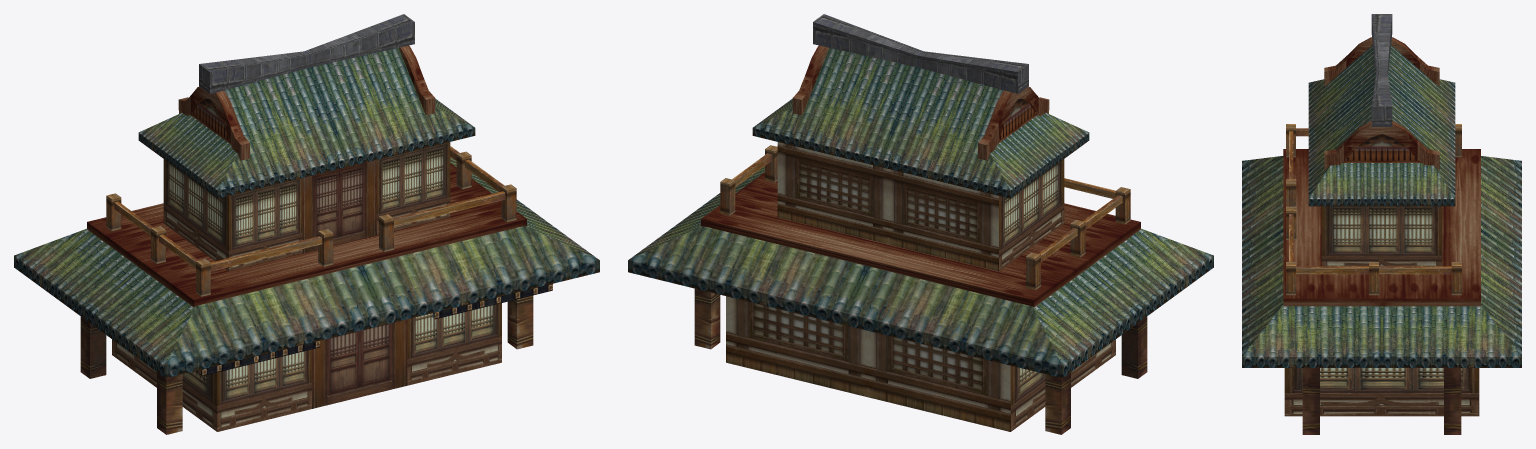
File: a_fangzi_002.fbx
3 renders of one model, left to right at view 1: azimuth 30°, elevation 25°; view 2: azimuth 150°, elevation 25°; view 3: azimuth 270°, elevation 25°, orthographic. The views are drawn at different scales.
Parts seen in each view (by area): view 1: polySurface28, polySurface48, polySurface46, polySurface44, polySurface47, polySurface57, polySurface55, polySurface45, polySurface51, polySurface56, polySurface50, polySurface21 (+8 smaller); view 2: polySurface28, polySurface48, polySurface45, polySurface47, polySurface43, polySurface56, polySurface54, polySurface46, polySurface51, polySurface57, polySurface50, polySurface22 (+5 smaller); view 3: polySurface47, polySurface44, polySurface43, polySurface28, polySurface48, polySurface54, polySurface55, polySurface46, polySurface45, polySurface56, polySurface57, polySurface51 (+11 smaller).
Part boxes in pixels (x1,y1,x2,y2): polySurface28: (112, 303, 501, 431); polySurface48: (163, 142, 450, 271); polySurface46: (89, 266, 382, 378); polySurface44: (360, 202, 599, 324); polySurface47: (87, 163, 526, 307); polySurface57: (178, 67, 346, 198); polySurface55: (310, 48, 475, 166); polySurface45: (14, 228, 139, 322); polySurface51: (199, 14, 414, 93); polySurface56: (138, 112, 211, 168); polySurface50: (178, 86, 249, 160); polySurface21: (157, 372, 182, 434); polySurface28: (726, 296, 1115, 431); polySurface48: (777, 142, 1064, 271); polySurface45: (845, 266, 1138, 378); polySurface47: (701, 172, 1140, 307); polySurface43: (628, 199, 867, 324); polySurface56: (881, 67, 1049, 198); polySurface54: (752, 48, 917, 166); polySurface46: (1088, 228, 1213, 322); polySurface51: (813, 14, 1028, 93); polySurface57: (1016, 112, 1089, 168); polySurface50: (978, 86, 1049, 160); polySurface22: (694, 288, 720, 349); polySurface47: (1283, 149, 1480, 306); polySurface44: (1242, 230, 1381, 367); polySurface43: (1382, 230, 1521, 367); polySurface28: (1284, 368, 1479, 416); polySurface48: (1321, 206, 1442, 266); polySurface54: (1382, 83, 1455, 206); polySurface55: (1308, 83, 1381, 206); polySurface46: (1242, 156, 1283, 258); polySurface45: (1481, 156, 1521, 258); polySurface56: (1388, 45, 1455, 140); polySurface57: (1308, 45, 1375, 140); polySurface51: (1371, 14, 1392, 126).
Size of the model in its own units: 10.78 by 7.48 by 6.5.
